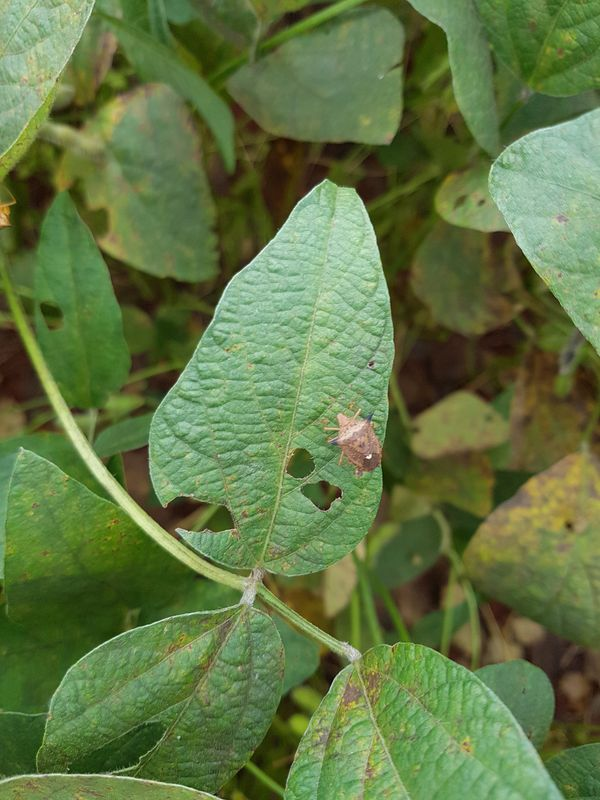Euschistus_heros_adulto: (312, 396, 392, 484)
